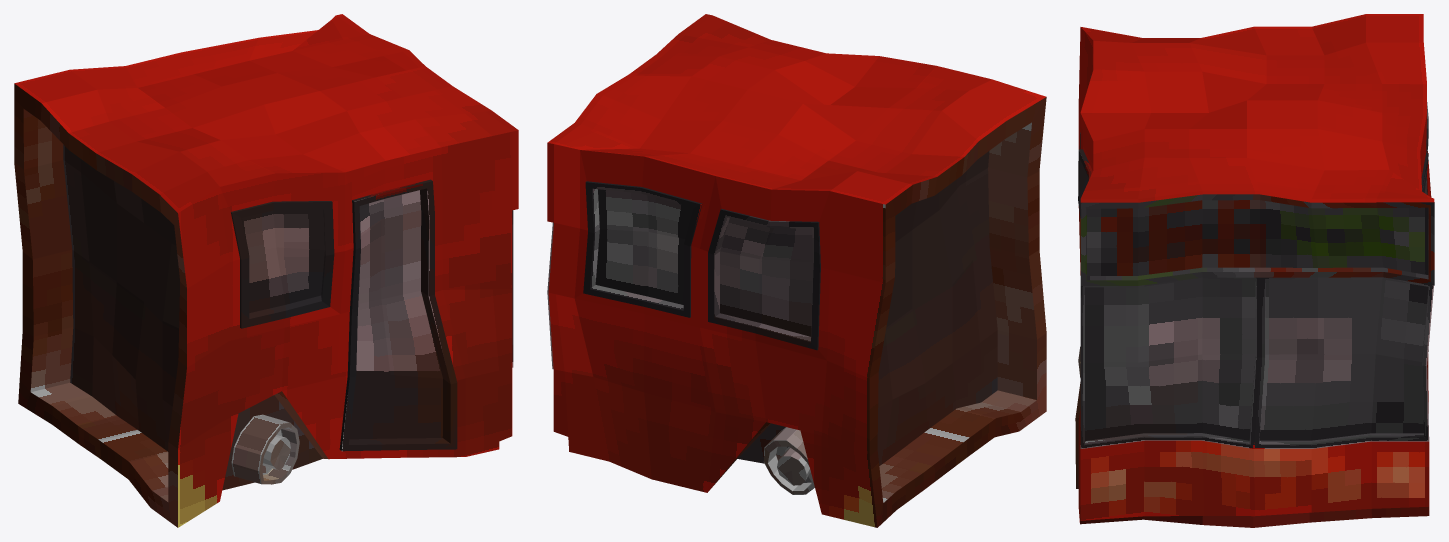
The model's file is BondiFrente v2.glb.
The picture shows the model from 3 angles, left to right: view 1: azimuth 30°, elevation 25°; view 2: azimuth 150°, elevation 25°; view 3: azimuth 270°, elevation 25°; orthographic projection. The views are drawn at different scales.
Parts seen in each view (by area): view 1: BondiFrente; view 2: BondiFrente; view 3: BondiFrente.
Boxes of the visible parts, x1,y1,x2,y2 form: BondiFrente: (14, 14, 518, 527); BondiFrente: (547, 14, 1046, 527); BondiFrente: (1075, 14, 1434, 527).
Size of the model in its own units: 2.05 by 1.88 by 1.76.
1 material, 1 textured.
